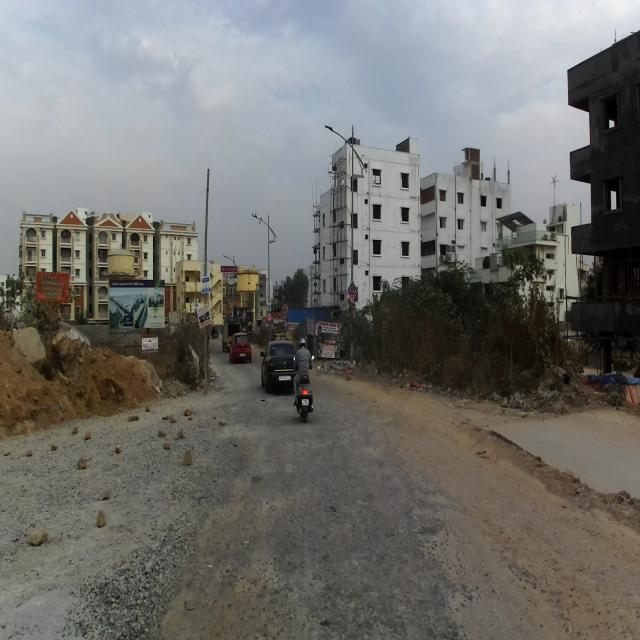car ahead at: (259, 336, 294, 396)
motorcycle ahead at: (292, 372, 317, 427)
